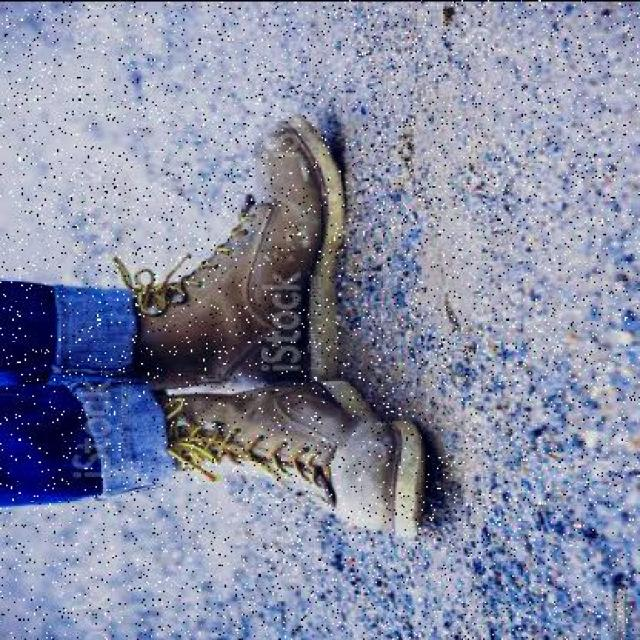shoes: (119, 115, 347, 394), (163, 390, 415, 530)
